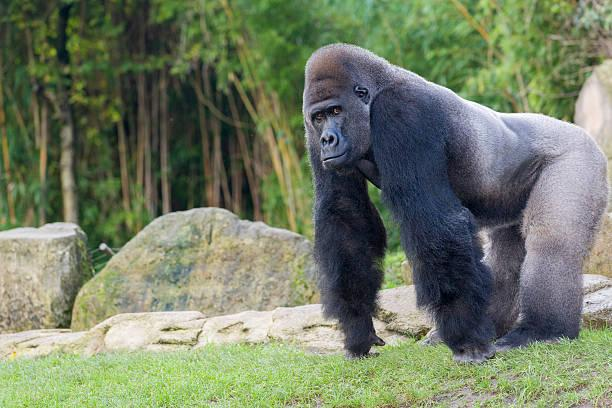gorille_Autres: (242, 0, 612, 371)
